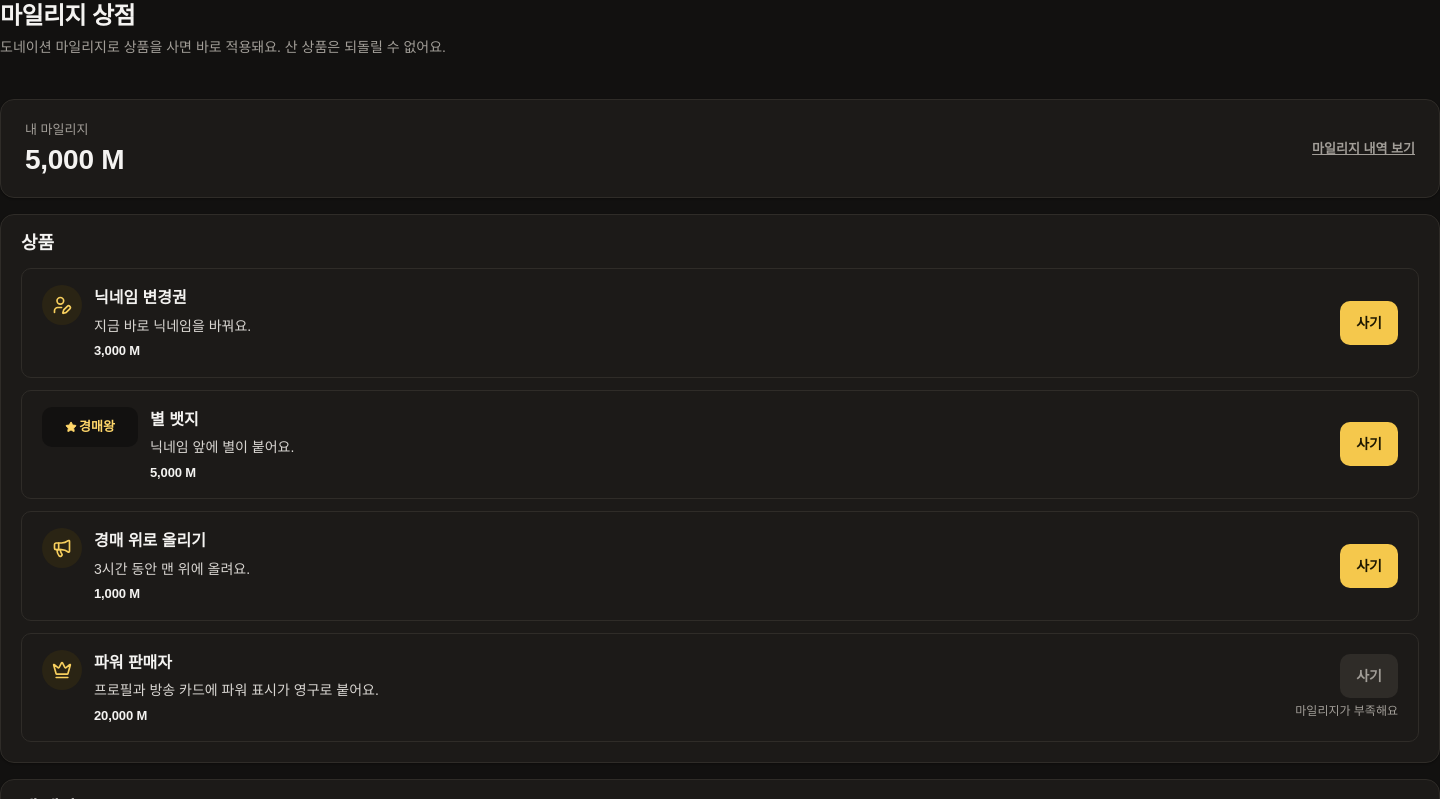
Scenario: ShopPage › 바꿀 수 없는 닉네임이면(USER_002) 창 안에 이유를 보여주고 창을 닫지 않는다
Click the button with aria-label "닉네임 변경권 사기": (1369, 323) [1340, 301, 1398, 345]
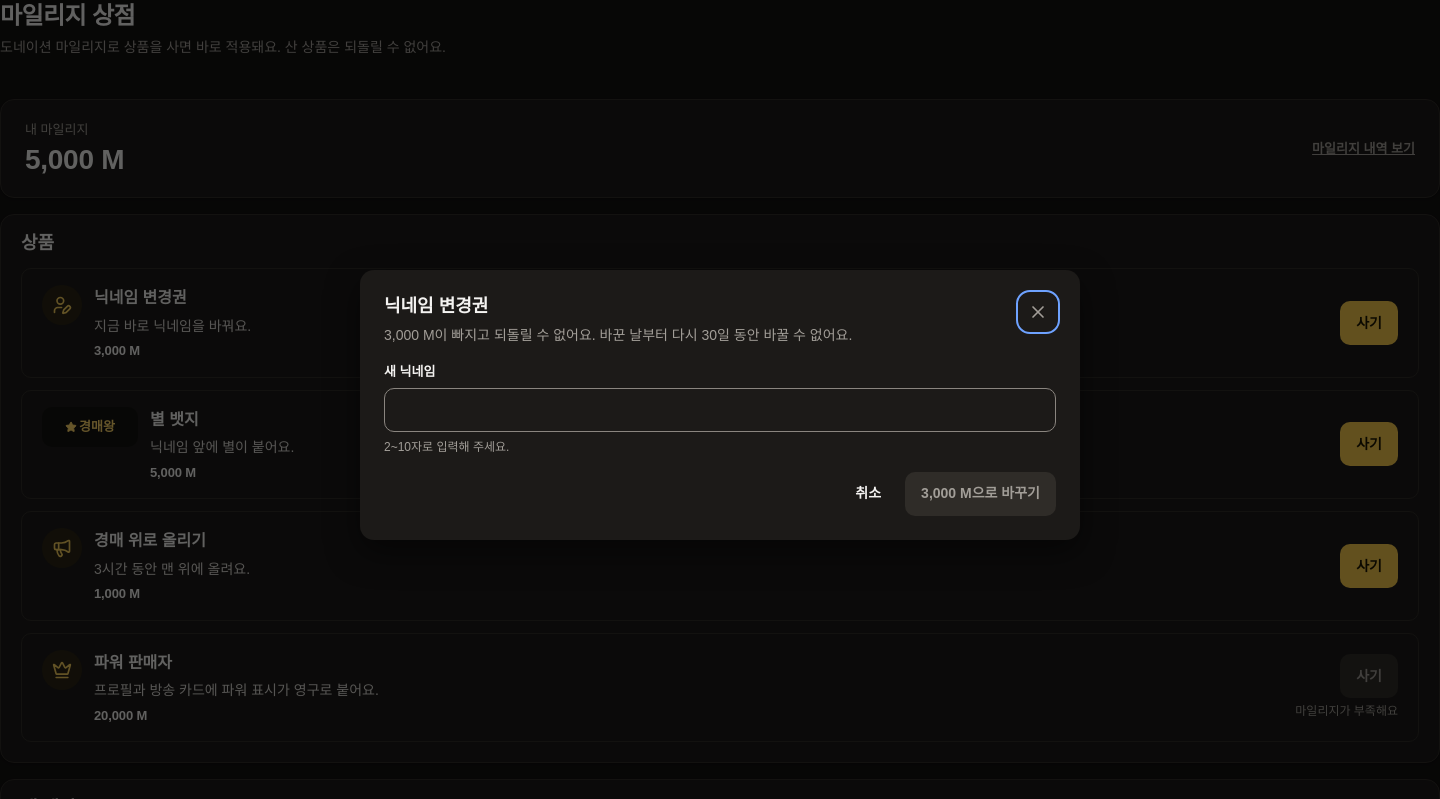
In the field labelled "새 닉네임": (720, 410) [384, 388, 1056, 432], type "남의닉네임"
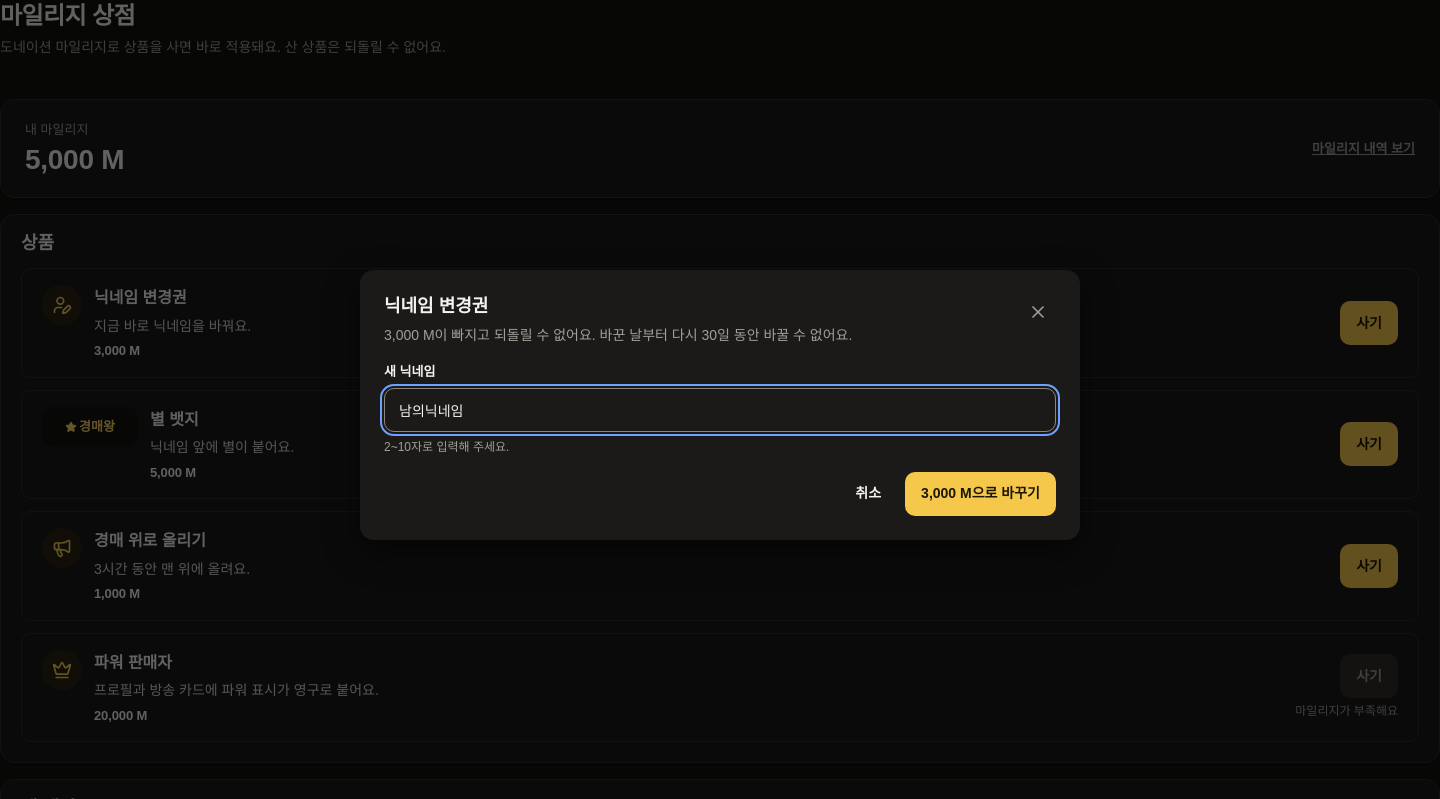
Click the button "3,000 M으로 바꾸기": (981, 494) [905, 472, 1056, 516]
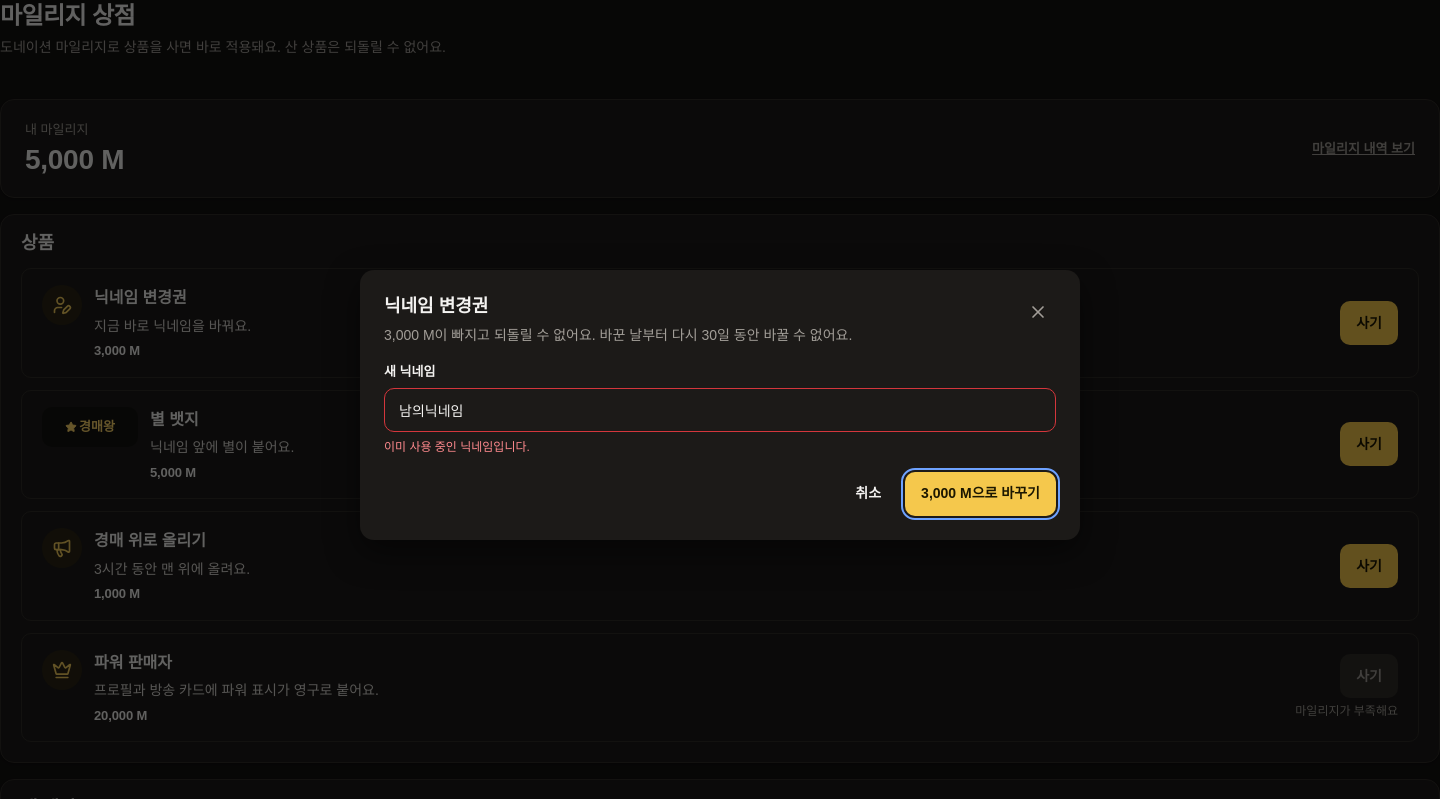
Expected: the text "이미 사용 중인 닉네임입니다." is shown, [384, 440, 530, 454]
